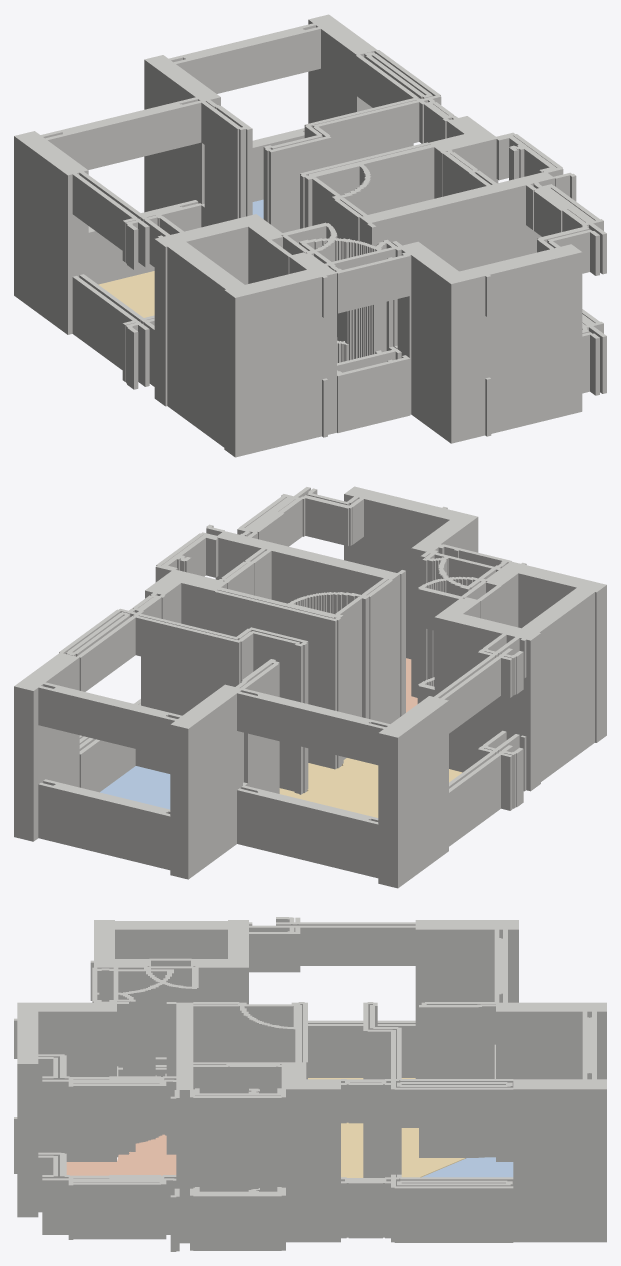
3 renders of one model, top to bottom at view 1: azimuth 30°, elevation 25°; view 2: azimuth 150°, elevation 25°; view 3: azimuth 270°, elevation 25°, orthographic. The views are drawn at different scales.
Visible parts, largest first — view 1: walls, room:living:0; view 2: walls, room:living:0, room:bedroom:1; view 3: walls, room:living:0, room:kitchen:5, room:bedroom:1.
Boxes of the visible parts, bbox=[...] form: walls: bbox=[14, 14, 606, 457]; room:living:0: bbox=[98, 271, 154, 317]; walls: bbox=[14, 486, 606, 888]; room:living:0: bbox=[279, 758, 462, 817]; room:bedroom:1: bbox=[100, 766, 170, 809]; walls: bbox=[14, 917, 606, 1251]; room:living:0: bbox=[308, 1078, 465, 1177]; room:kitchen:5: bbox=[66, 1134, 176, 1175]; room:bedroom:1: bbox=[422, 1157, 513, 1177].
Bounding box in the file's own units: 7.12 × 2.8 × 9.82.
